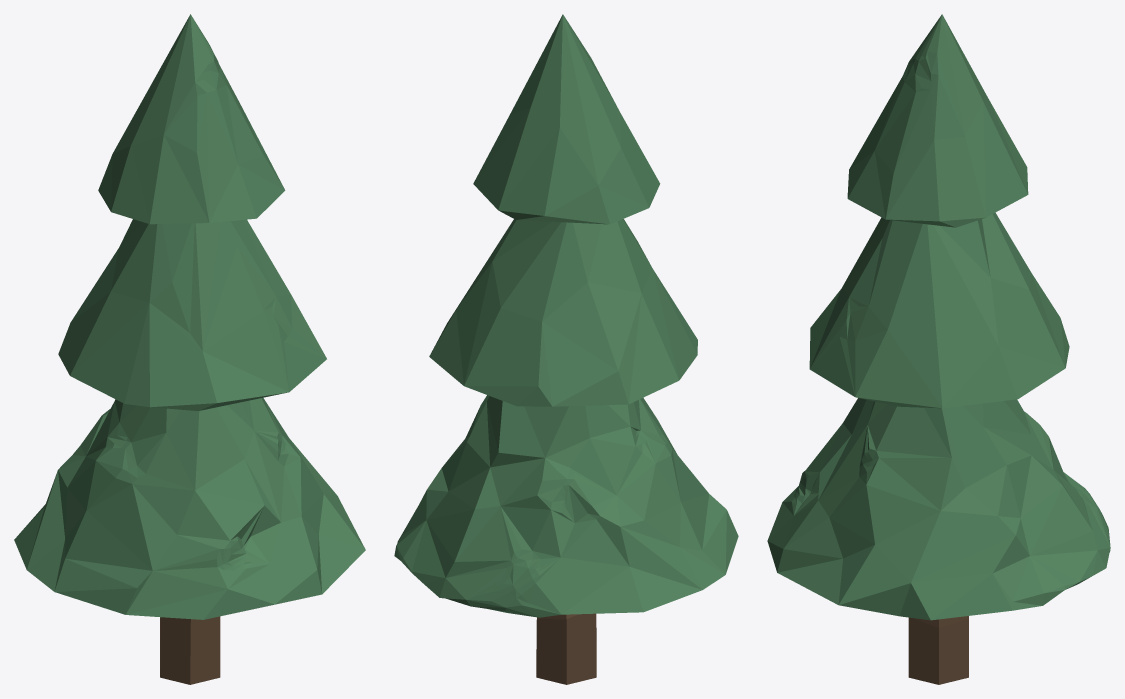
File: Pine_Tree.fbx
The picture shows the model from 3 angles, left to right: view 1: azimuth 30°, elevation 25°; view 2: azimuth 150°, elevation 25°; view 3: azimuth 270°, elevation 25°; orthographic projection.
Parts seen in each view (by area): view 1: polySurface1; view 2: polySurface1; view 3: polySurface1.
Boxes of the visible parts, x1,y1,x2,y2 form: polySurface1: (14,14,365,684); polySurface1: (394,14,738,684); polySurface1: (767,14,1110,684).
Size of the model in its own units: 9.27 by 19.38 by 9.17.
